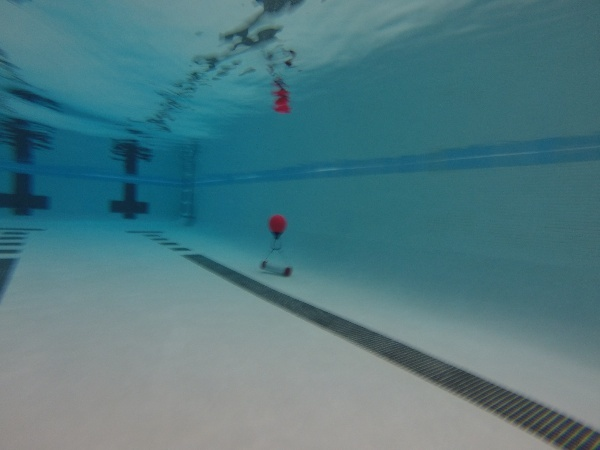buoy_red: (266, 212, 288, 242)
